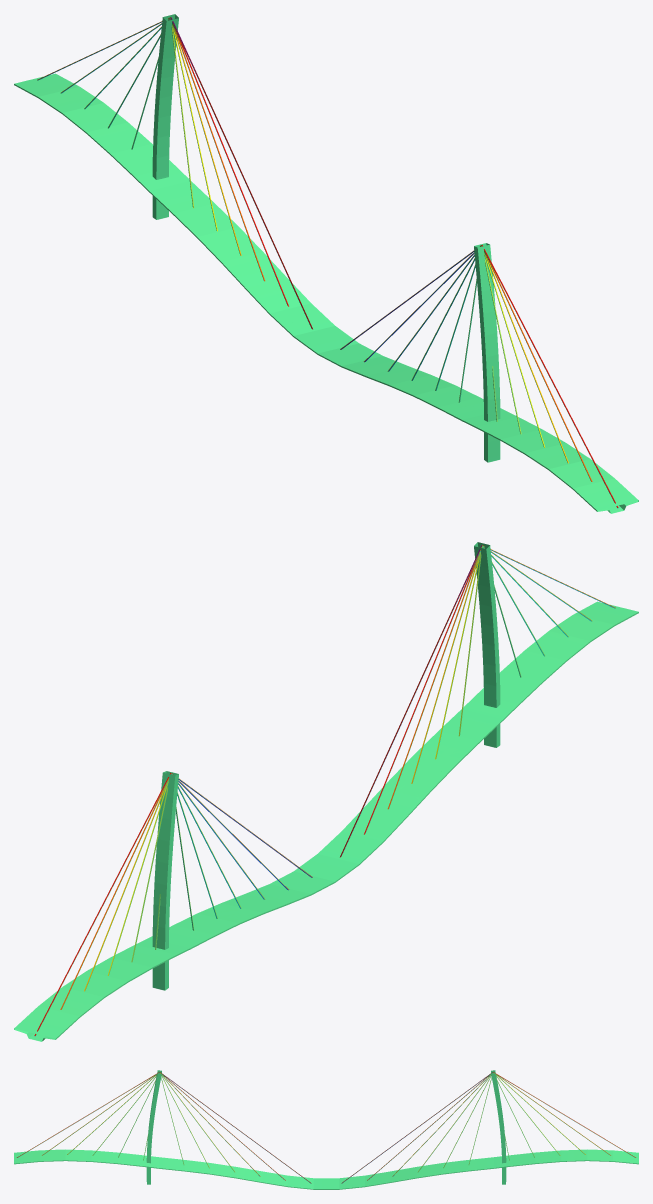
Rendered from Selfweight.glb.
The picture shows the model from 3 angles, top to bottom: view 1: azimuth 30°, elevation 25°; view 2: azimuth 150°, elevation 25°; view 3: azimuth 270°, elevation 25°; orthographic projection. The views are drawn at different scales.
Parts seen in each view (by area): view 1: beam1_hull_lc1_ampFactor100; view 2: beam1_hull_lc1_ampFactor100; view 3: beam1_hull_lc1_ampFactor100.
Boxes of the visible parts, x1,y1,x2,y2 form: beam1_hull_lc1_ampFactor100: (14, 14, 638, 513); beam1_hull_lc1_ampFactor100: (14, 542, 638, 1041); beam1_hull_lc1_ampFactor100: (14, 1070, 638, 1189).
Size of the model in its own units: 5 by 24.72 by 121.
1 material, 1 textured.
